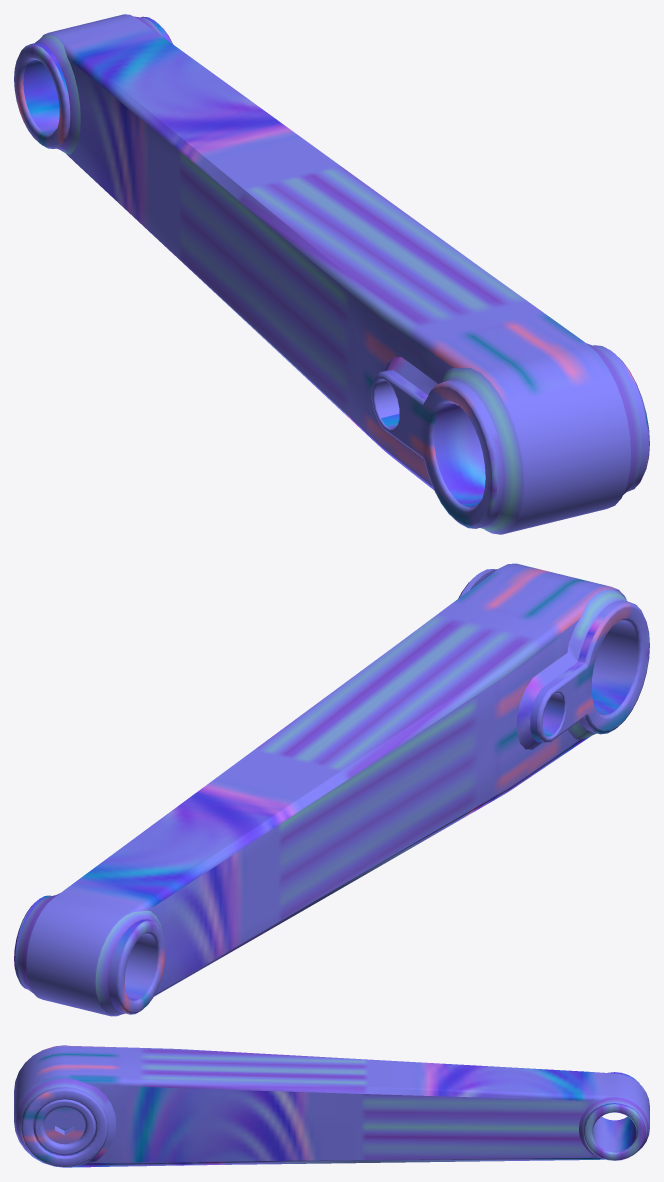
Rendered from BMX_CrankArm_Destruction_Kaboom 175mm.fbx.
3 views of the same model, one above another, from view 1: azimuth 30°, elevation 25°; view 2: azimuth 150°, elevation 25°; view 3: azimuth 270°, elevation 25° (orthographic). The views are drawn at different scales.
Parts seen in each view (by area): view 1: BMX_CrankArm_Destruction_Rat_Rod175mm; view 2: BMX_CrankArm_Destruction_Rat_Rod175mm; view 3: BMX_CrankArm_Destruction_Rat_Rod175mm.
Boxes of the visible parts, bbox=[...] form: BMX_CrankArm_Destruction_Rat_Rod175mm: bbox=[14, 14, 649, 534]; BMX_CrankArm_Destruction_Rat_Rod175mm: bbox=[14, 563, 649, 1016]; BMX_CrankArm_Destruction_Rat_Rod175mm: bbox=[14, 1045, 649, 1167].
Size of the model in its own units: 3.71 by 3.22 by 20.28.
1 material, 1 textured.
